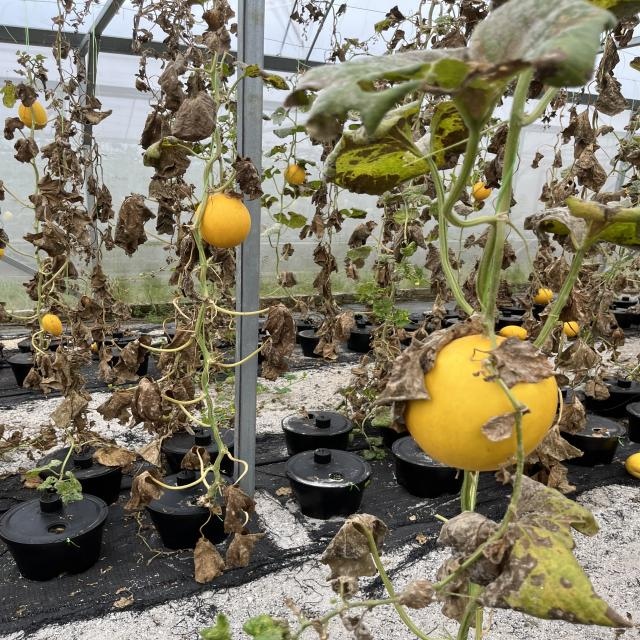bacterial wilt: (446, 476, 628, 627), (349, 332, 451, 423), (346, 124, 421, 202), (322, 498, 377, 593), (248, 300, 300, 382), (534, 157, 604, 201), (526, 432, 592, 478), (545, 116, 599, 161), (117, 193, 153, 258), (566, 273, 626, 311), (213, 484, 252, 540), (197, 3, 246, 46), (28, 264, 86, 300), (554, 332, 601, 376), (50, 379, 91, 427), (68, 111, 122, 147), (166, 104, 218, 141), (360, 255, 404, 295), (546, 396, 592, 434), (165, 382, 206, 423), (147, 62, 197, 95), (342, 214, 384, 252), (215, 538, 256, 576), (300, 241, 336, 284), (147, 137, 190, 173), (600, 51, 625, 109), (120, 332, 154, 370), (184, 540, 212, 584), (126, 466, 156, 506), (109, 390, 148, 420), (172, 324, 197, 367), (161, 9, 193, 42), (31, 171, 64, 203), (28, 53, 56, 88), (178, 447, 209, 470), (94, 262, 119, 290), (56, 350, 82, 376), (89, 438, 118, 461), (148, 110, 170, 140), (135, 441, 160, 465), (96, 190, 116, 212), (61, 214, 80, 237)
